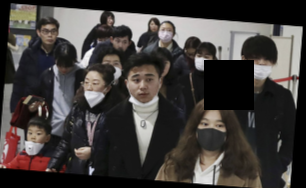mask_weared_incorrect: (127, 70, 160, 103), (83, 76, 106, 102), (25, 127, 46, 148)
with_mask: (192, 116, 228, 153), (245, 53, 274, 82), (100, 57, 123, 82), (193, 50, 213, 72), (157, 25, 173, 44)
without_mask: (38, 25, 59, 45), (111, 36, 129, 53), (54, 62, 74, 75), (184, 47, 197, 61), (148, 21, 159, 33), (105, 14, 115, 26)
